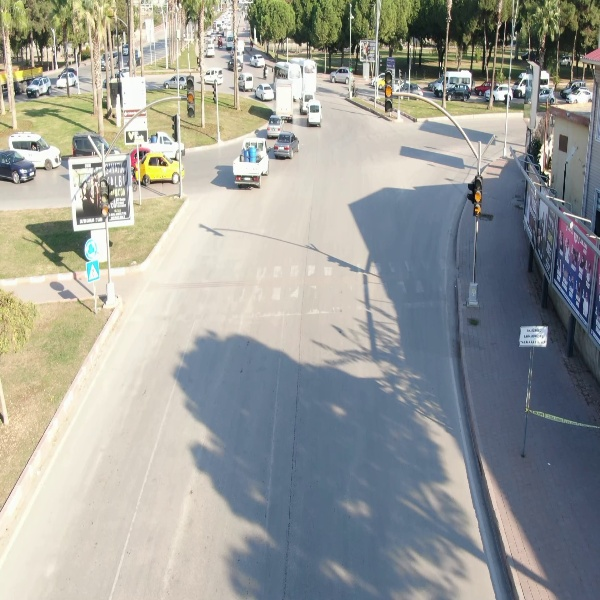car: (5, 130, 68, 168), (129, 150, 186, 188), (272, 129, 302, 160), (24, 73, 55, 99), (327, 64, 358, 89), (482, 83, 515, 104), (304, 97, 325, 128), (441, 83, 472, 103), (264, 112, 286, 137), (200, 67, 223, 90), (55, 72, 80, 87), (160, 77, 189, 89), (248, 53, 265, 70)
